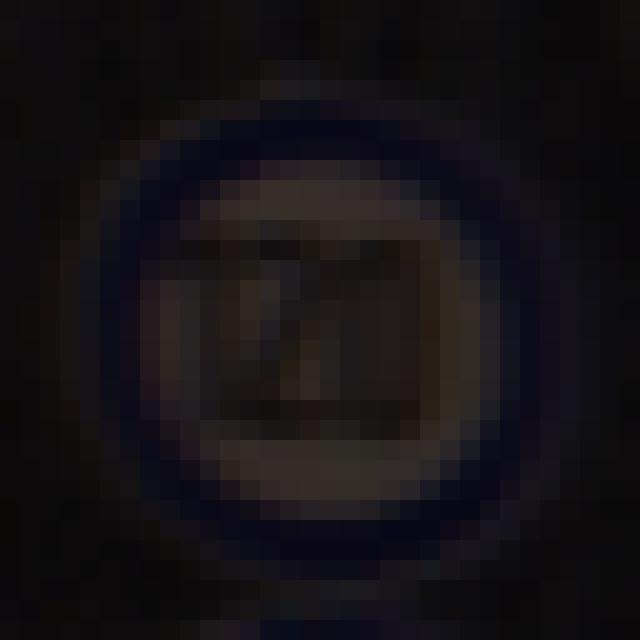SPEED LIMIT 120: (73, 109, 541, 544)
